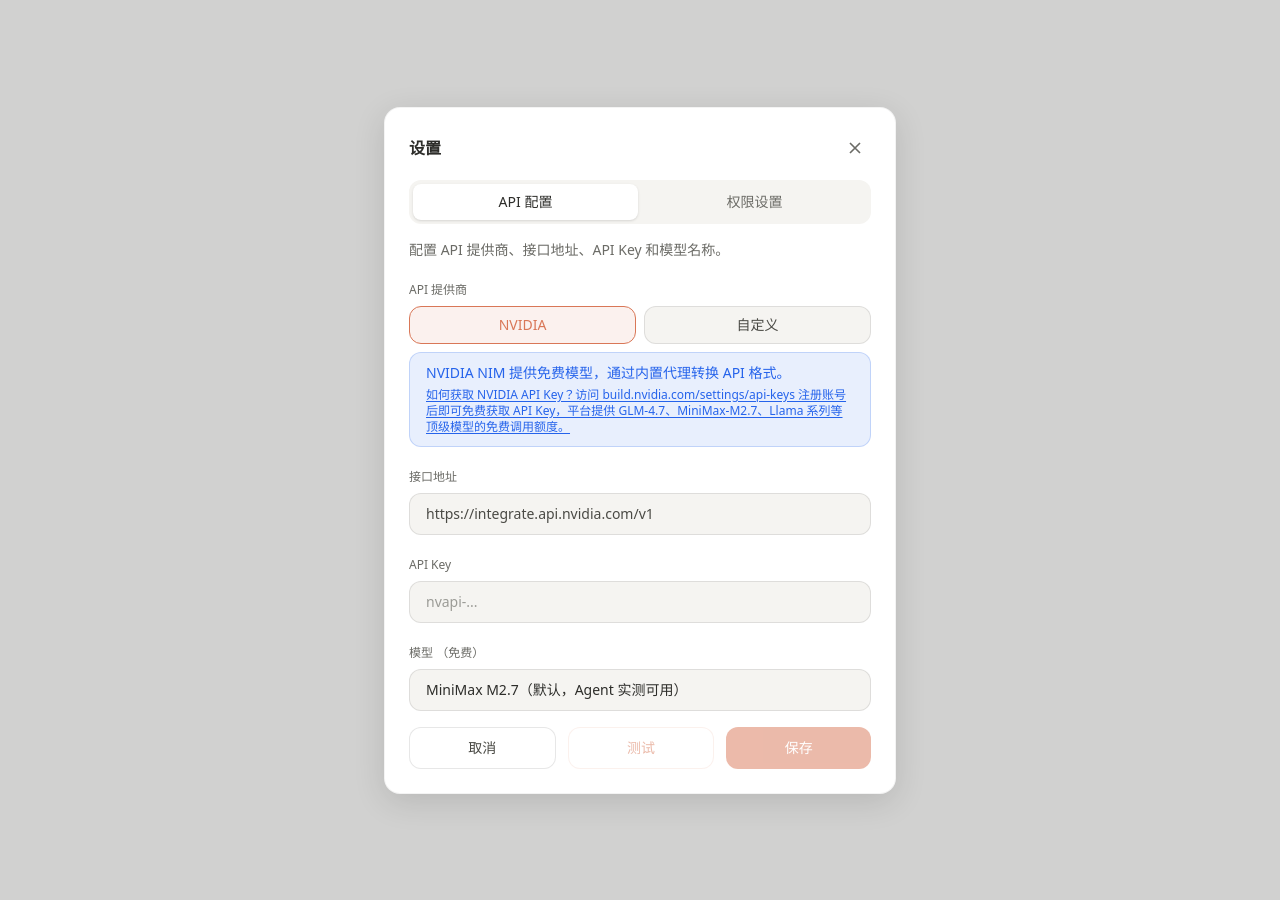
SettingsModal API connection test › should test custom API settings through the Electron IPC bridge
Click the button "自定义": (758,324) [644,306,871,344]
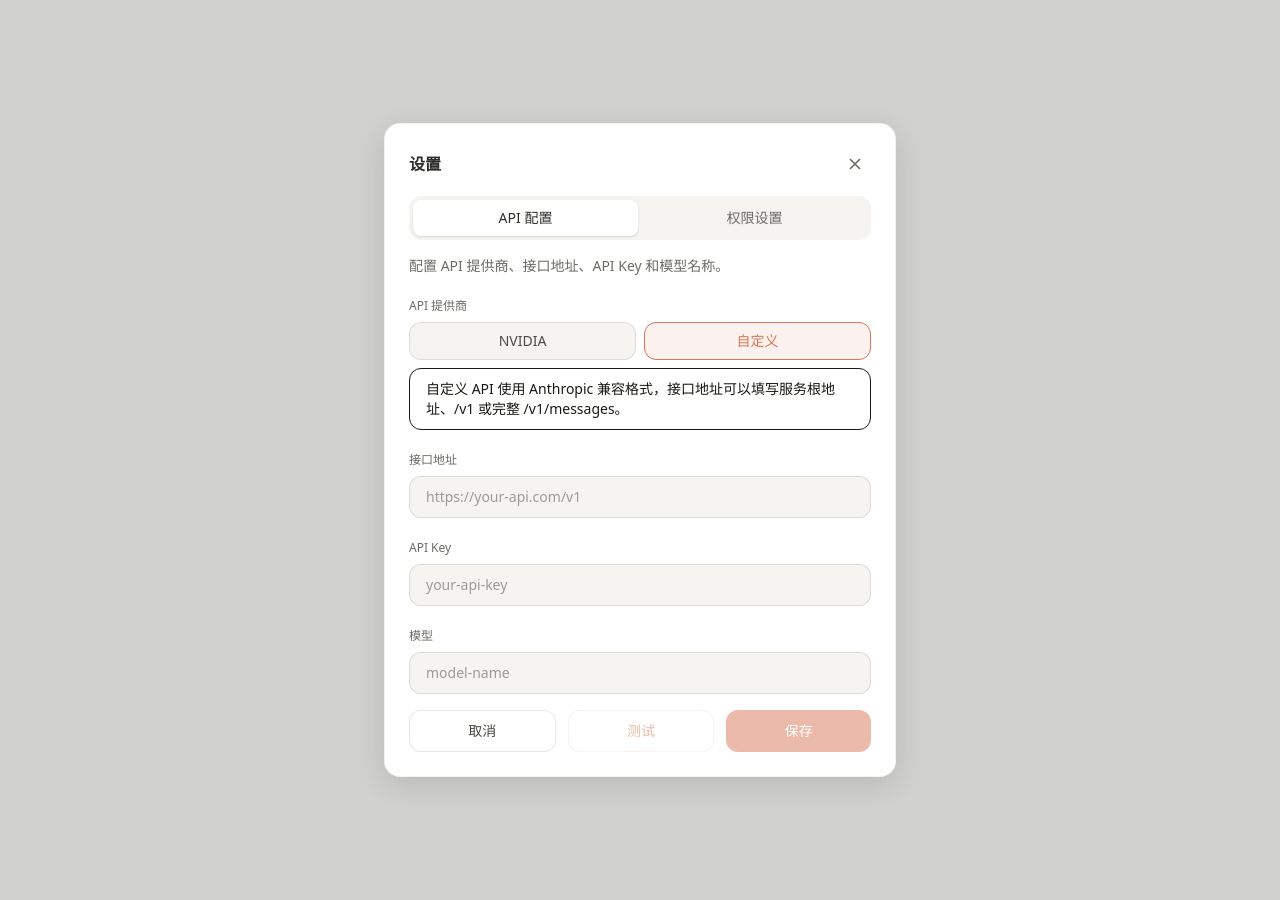
In the field with placeholder "https://your-api.com/v1": (640,497) [409,476,871,518], type "https://api.example.com/v1"
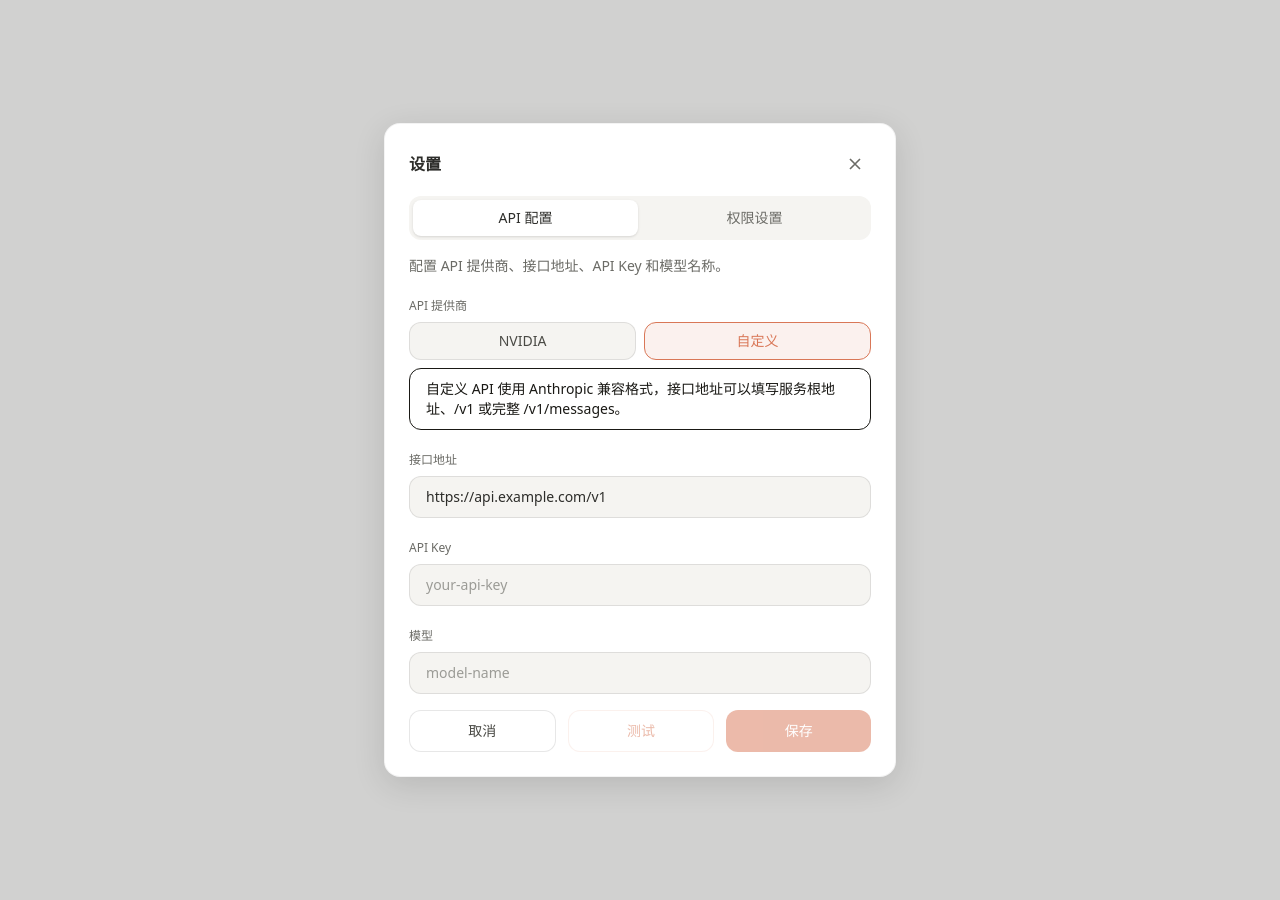
In the password field with placeholder "your-api-key": (640,585) [409,564,871,606], type "test-key"
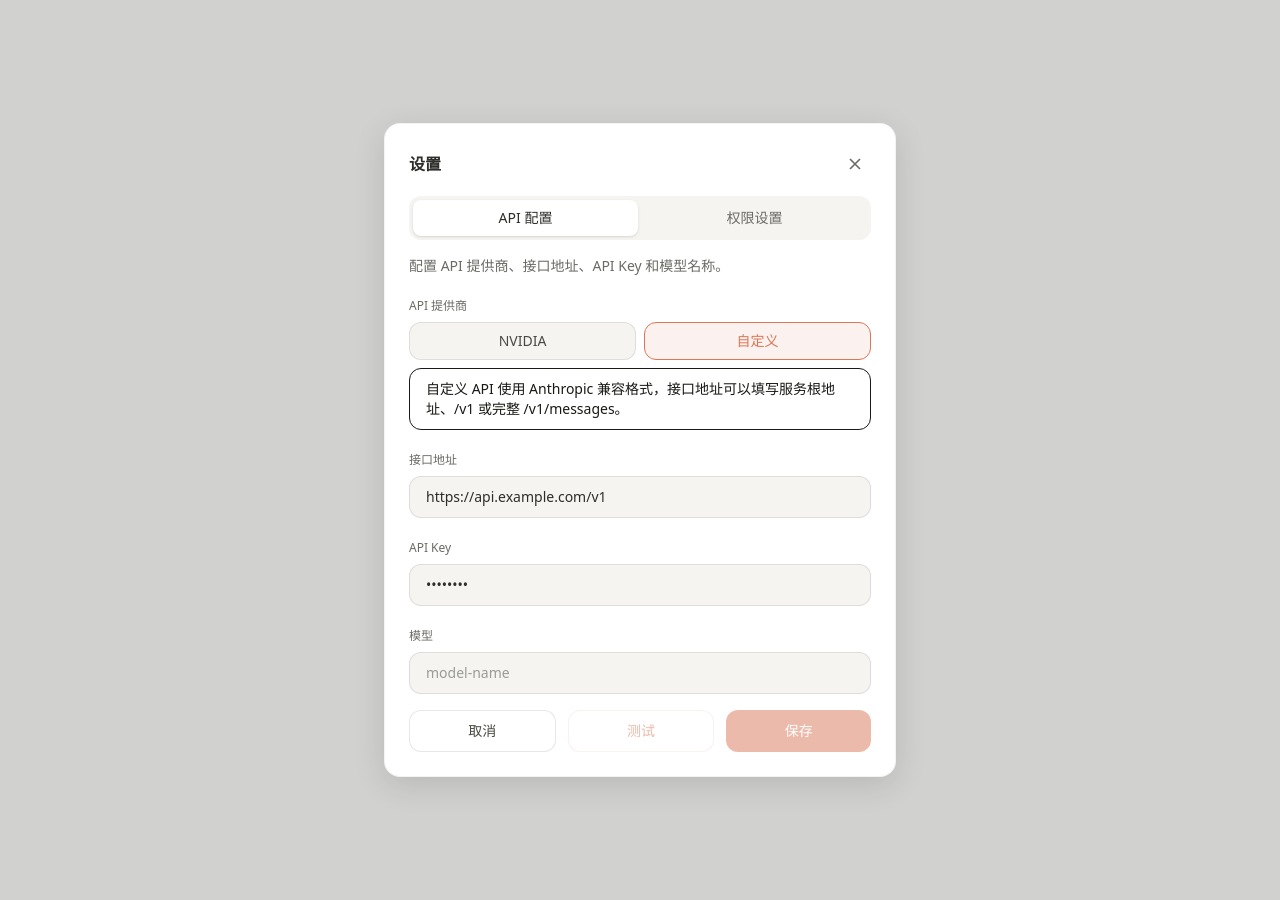
In the field with placeholder "model-name": (640,673) [409,652,871,694], type "claude-compatible-model"
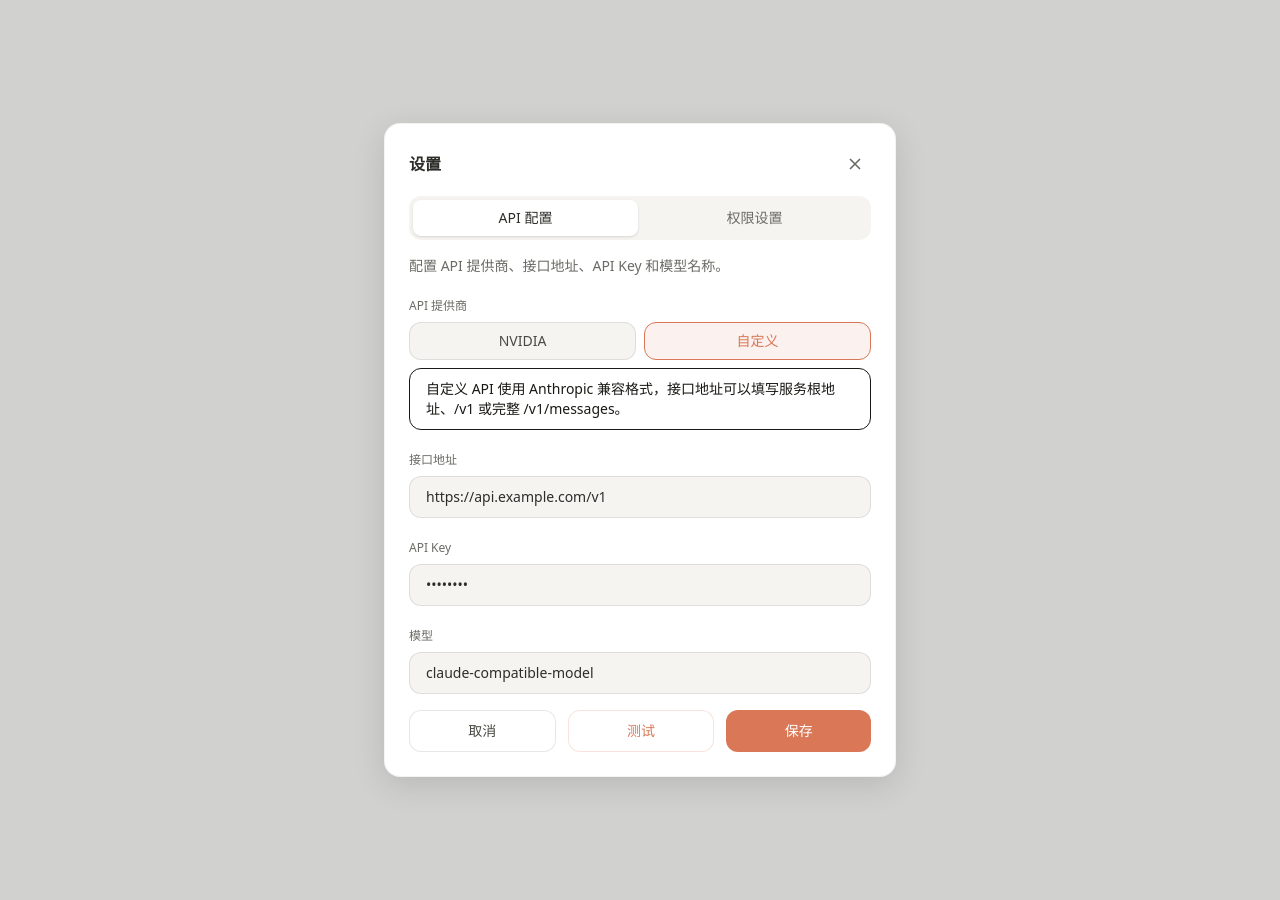
Click the button "测试": (641,731) [568,710,714,752]
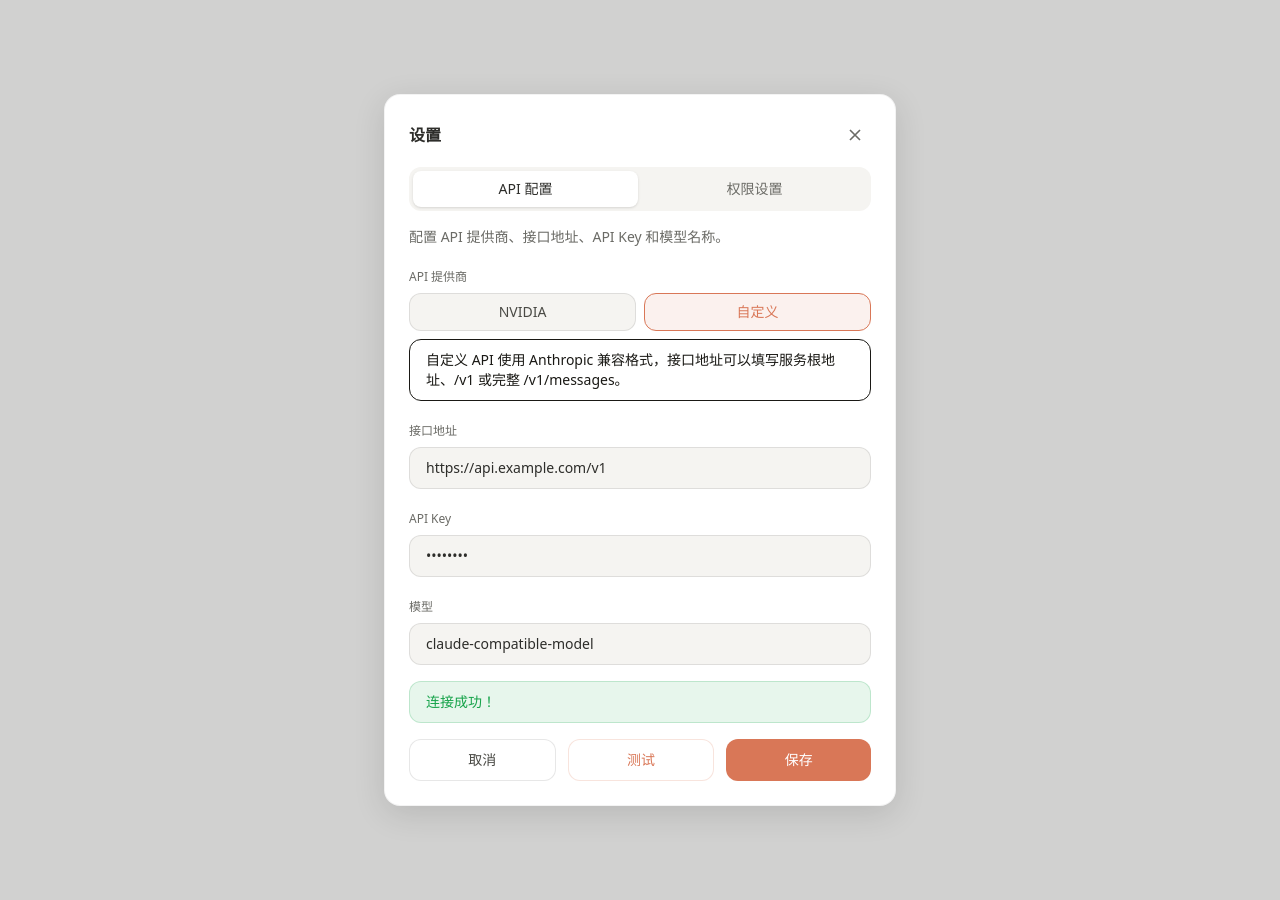
Check: the text "连接成功！" is shown, box [409,681,871,723]
